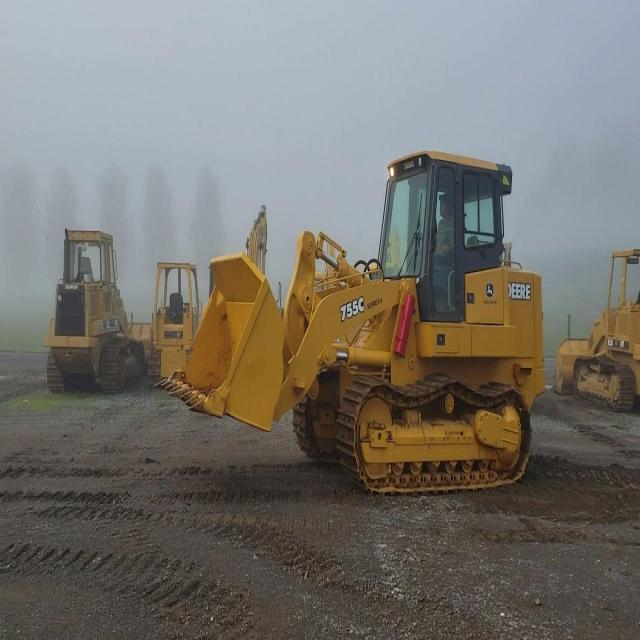Bulldozer: (152, 128, 566, 505)
